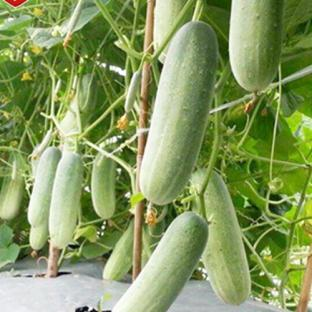Cucumber: (140, 22, 217, 205), (113, 213, 207, 311), (203, 172, 250, 305), (49, 152, 82, 248), (28, 148, 61, 227), (60, 74, 97, 134), (103, 221, 134, 280), (92, 153, 116, 219), (0, 154, 24, 220), (125, 71, 141, 114), (147, 220, 165, 252), (30, 221, 48, 250)
